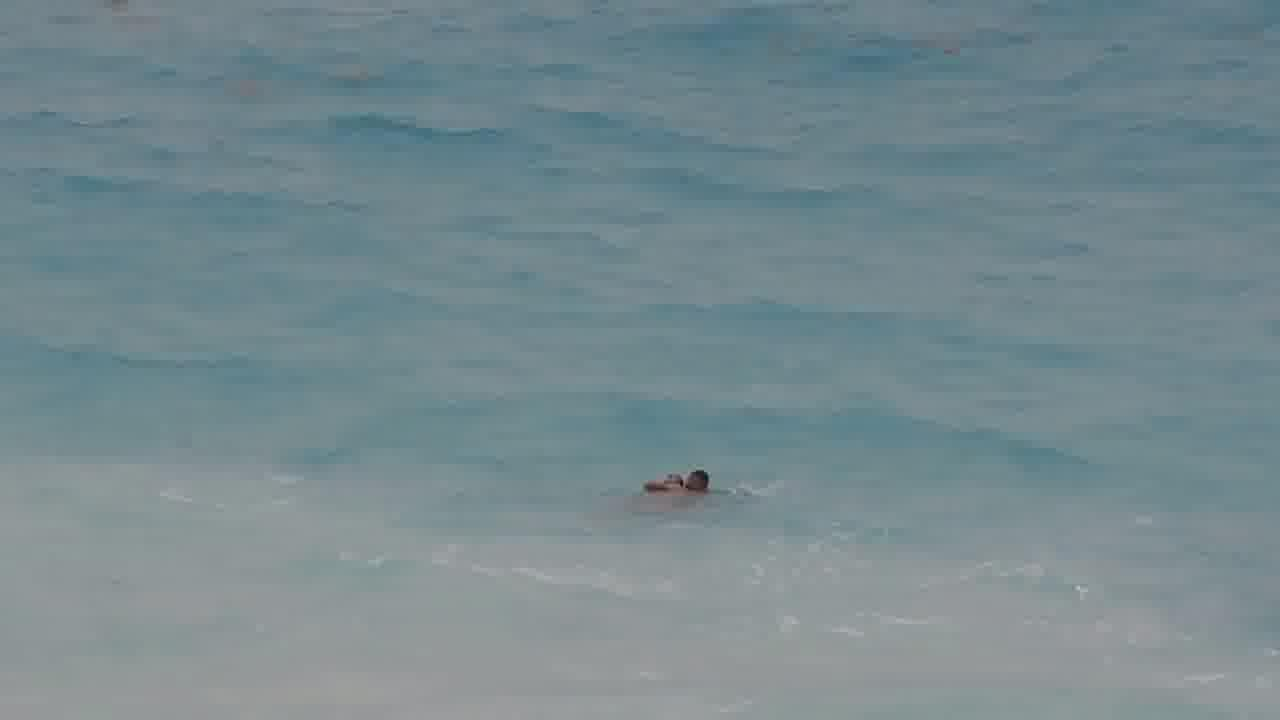swimmer: (686, 456, 712, 497), (652, 463, 677, 496)
